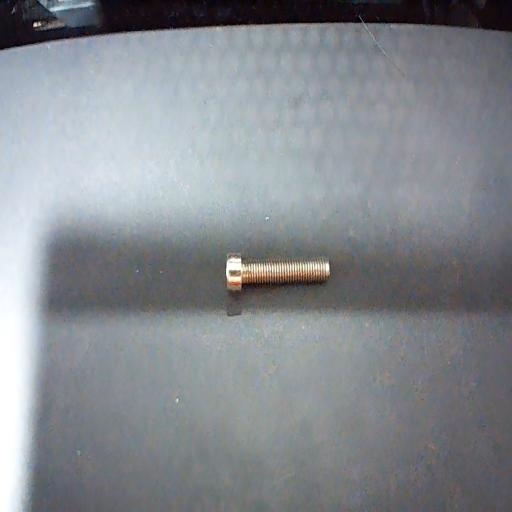screw: (226, 253, 330, 291)
